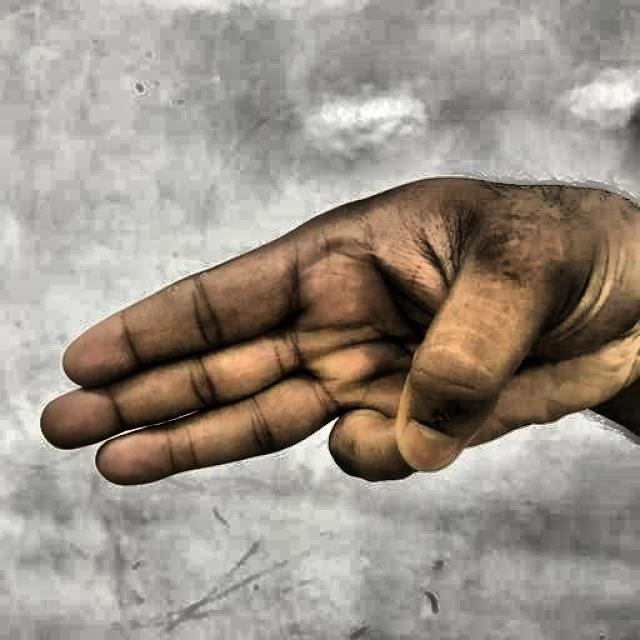Ma: (29, 165, 632, 526)
